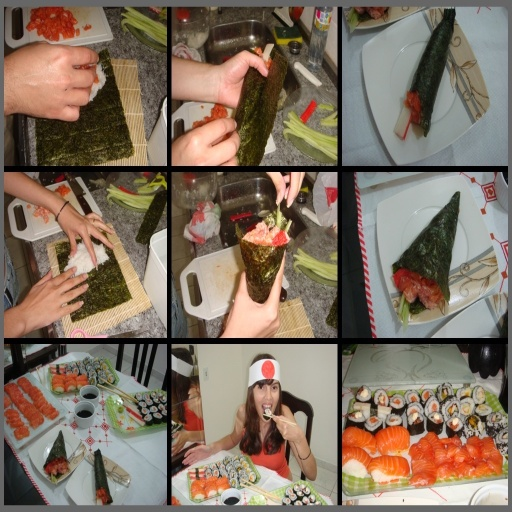hand: (9, 38, 99, 122), (219, 248, 286, 341), (17, 266, 89, 330), (53, 197, 116, 266), (170, 118, 240, 168), (216, 47, 269, 109), (265, 169, 305, 208), (181, 444, 212, 466), (274, 410, 292, 440)
